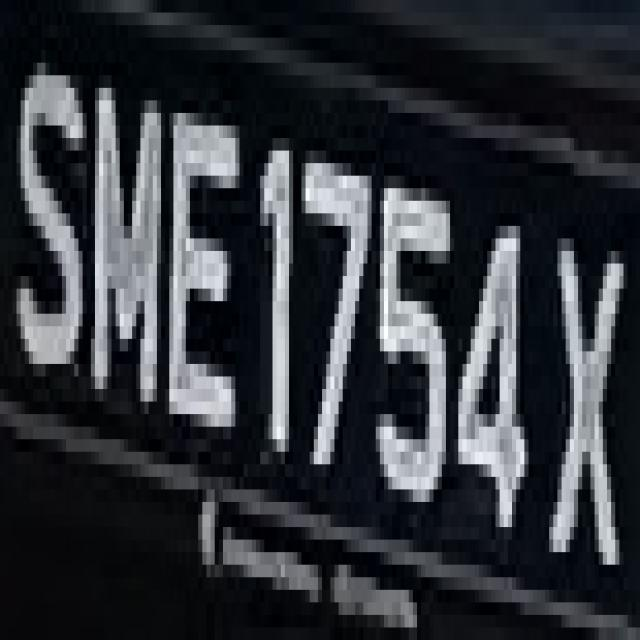1: (252, 88, 301, 477)
4: (454, 150, 529, 564)
5: (363, 113, 462, 527)
7: (289, 75, 368, 527)
E: (169, 63, 244, 502)
M: (86, 50, 178, 439)
S: (8, 25, 87, 414)
W: (545, 201, 628, 602)
